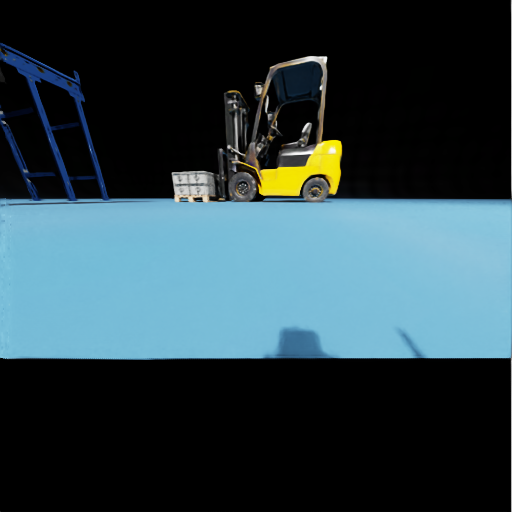transportation_area: (189, 184, 219, 194), (26, 61, 27, 62)
